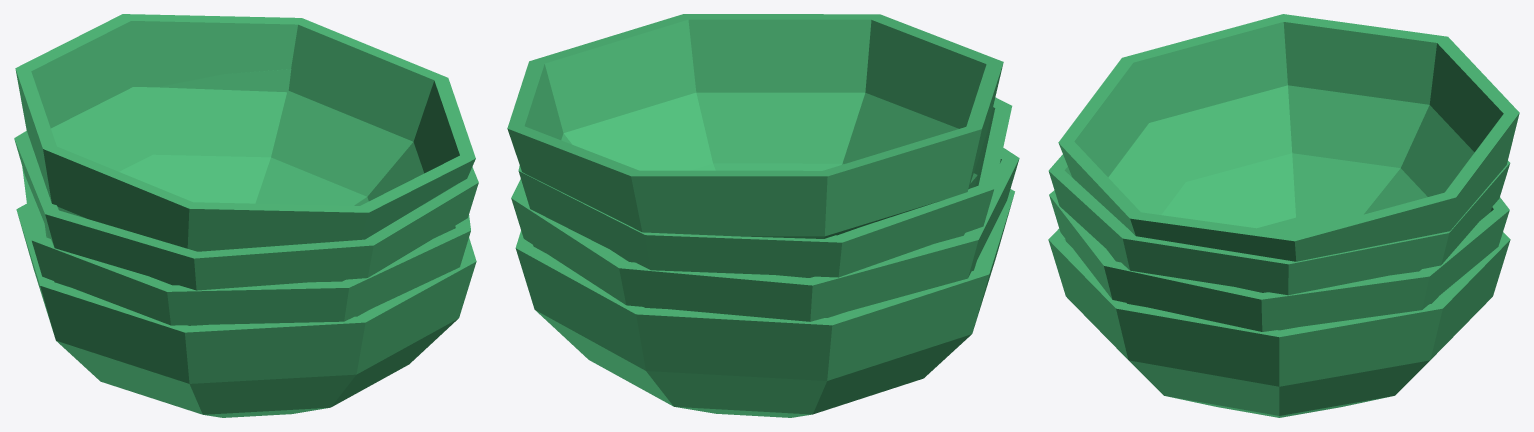
Rendered from bowl_02.fbx.
The picture shows the model from 3 angles, left to right: view 1: azimuth 30°, elevation 25°; view 2: azimuth 150°, elevation 25°; view 3: azimuth 270°, elevation 25°; orthographic projection. The views are drawn at different scales.
Parts seen in each view (by area): view 1: pSphere33; view 2: pSphere33; view 3: pSphere33.
Boxes of the visible parts, box(x1,y1,x2,y2) form: pSphere33: box(14, 14, 478, 417); pSphere33: box(507, 14, 1019, 417); pSphere33: box(1048, 14, 1519, 417).
Bounding box in the file's own units: 0.1916 × 0.125 × 0.1937.
